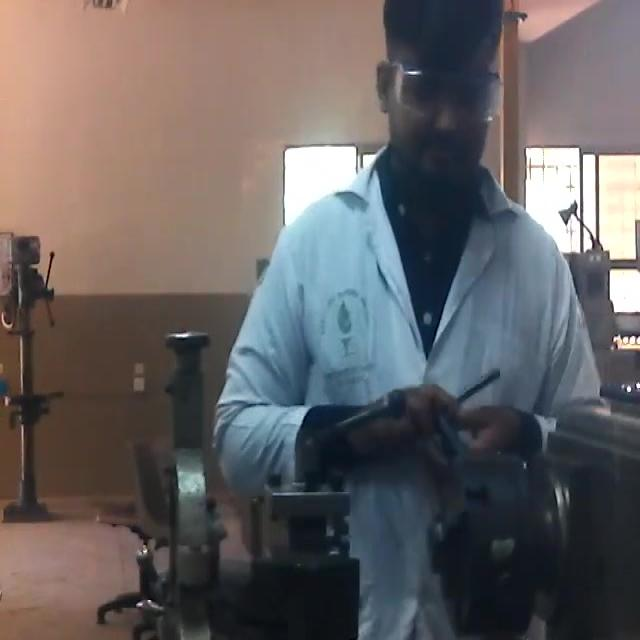googles: (395, 62, 500, 126)
labcoat: (216, 141, 613, 640)
